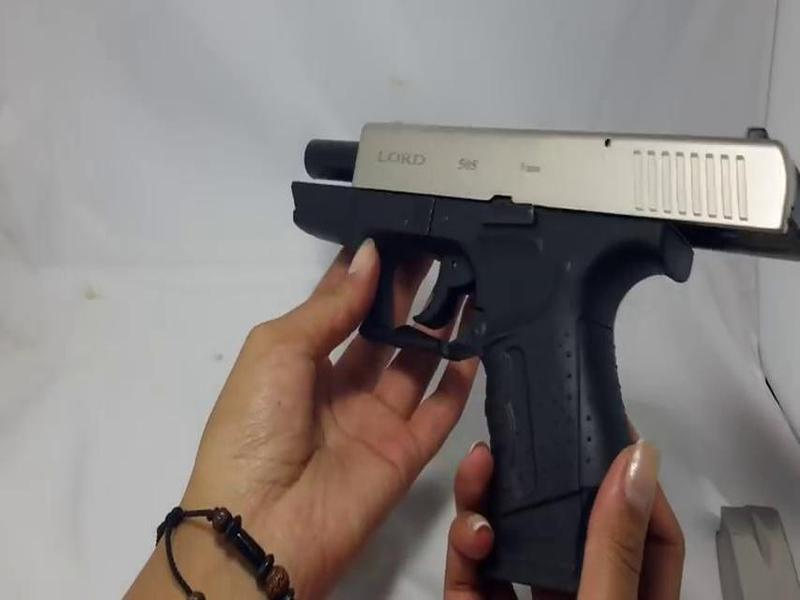Pistola: (261, 118, 800, 586)
